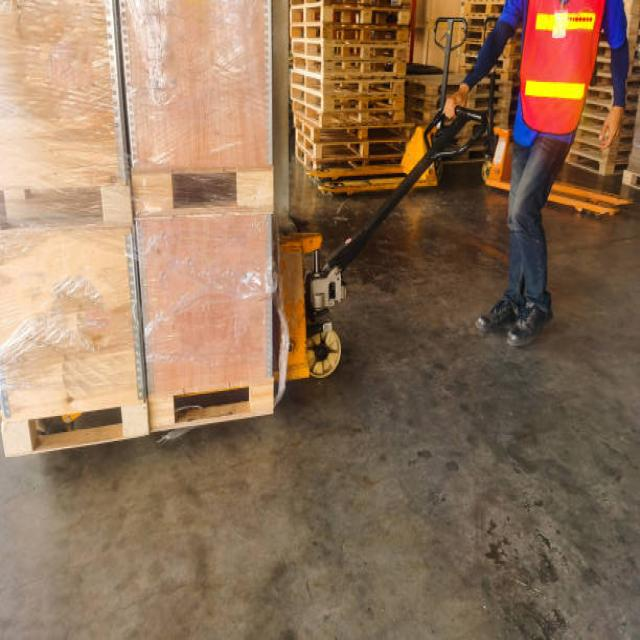Wooden-Pallets: (0, 375, 274, 461), (280, 18, 328, 42)
